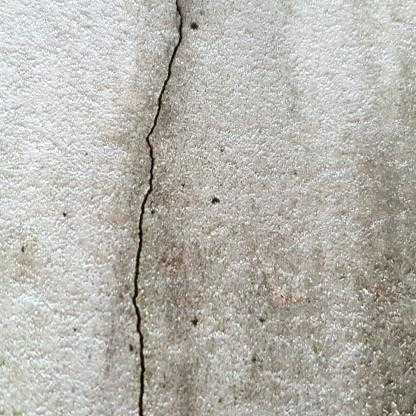crack: (132, 0, 184, 416)
